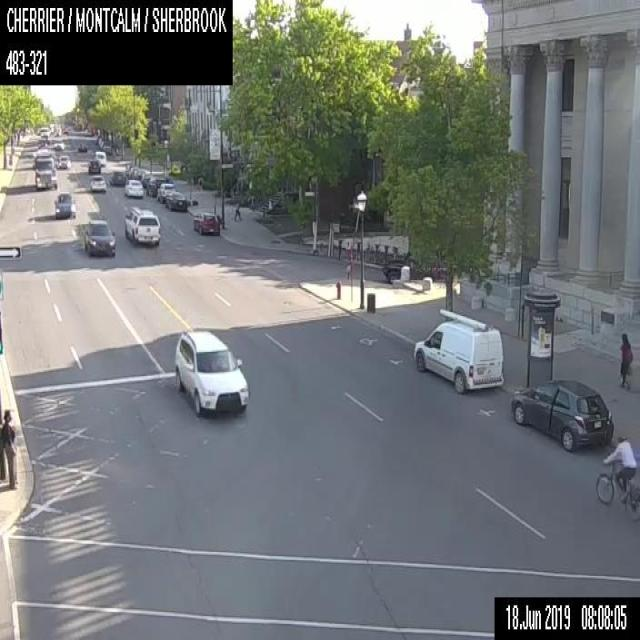cyclist: (594, 436, 639, 517)
pedestrian: (0, 406, 17, 488), (619, 332, 632, 387), (232, 200, 241, 221), (197, 175, 202, 192)
vehicle: (412, 307, 503, 393), (508, 377, 613, 451), (172, 327, 247, 416), (381, 249, 444, 279), (123, 205, 159, 244), (84, 218, 115, 258), (33, 149, 57, 188), (192, 211, 219, 233), (54, 190, 74, 219), (165, 190, 186, 211), (146, 174, 165, 196), (157, 182, 174, 202), (125, 178, 142, 196), (89, 175, 106, 192), (109, 170, 125, 187), (56, 154, 70, 167), (87, 158, 100, 172), (93, 150, 105, 165), (141, 172, 153, 186), (40, 125, 49, 137), (54, 138, 64, 148), (37, 138, 46, 148), (77, 141, 86, 151)
